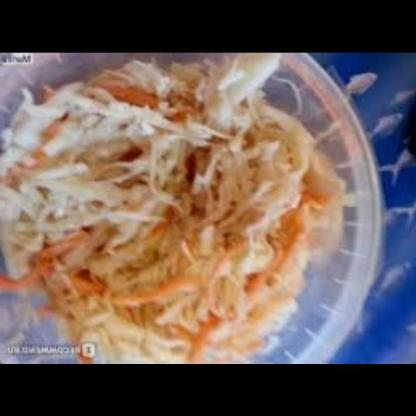cabbage: (17, 69, 329, 363)
carrot: (5, 225, 89, 292), (264, 195, 319, 283)
